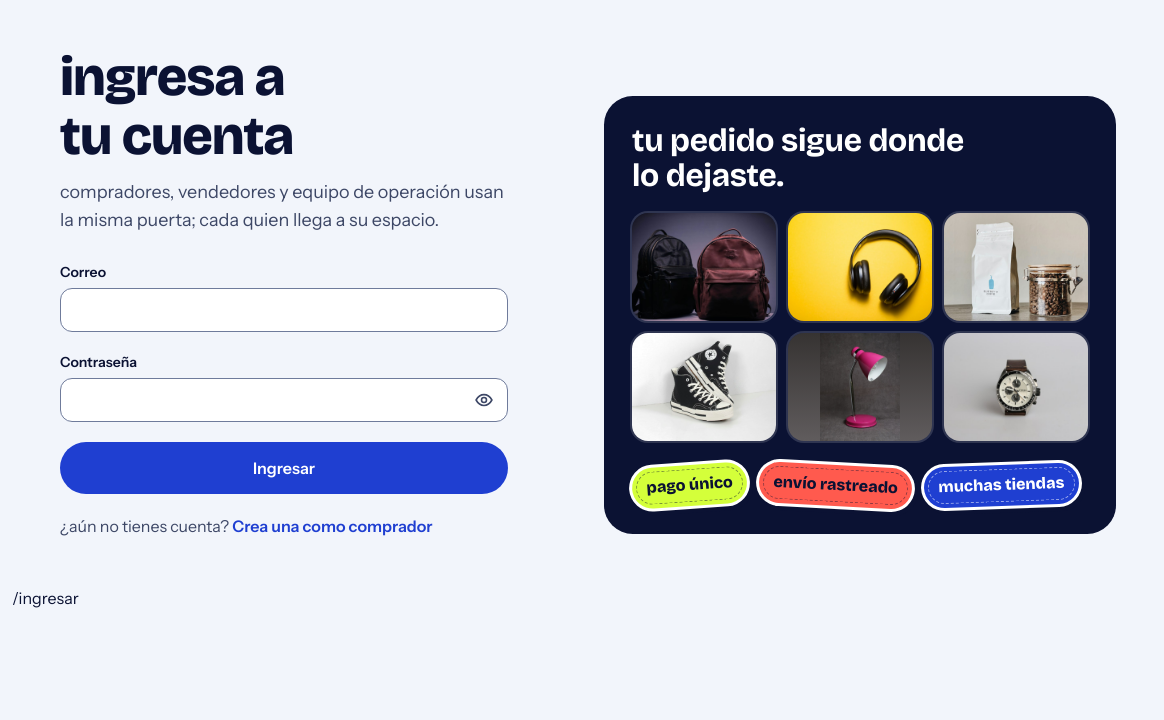
Test: login flow › shows a Spanish message when the credentials do not match
In the field labelled "Correo": (284, 310) [60,288,508,332], type "ana@nexusmarket.test"
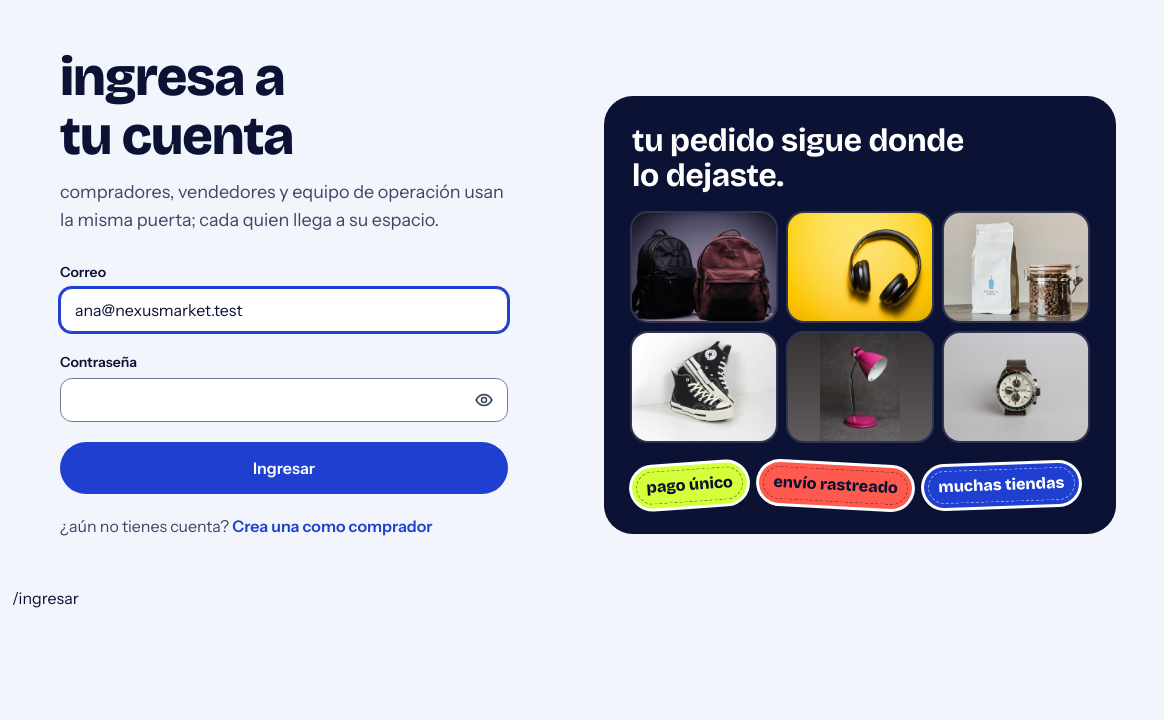
In the password field labelled "Contraseña": (284, 400) [60,378,508,422], type "equivocada"
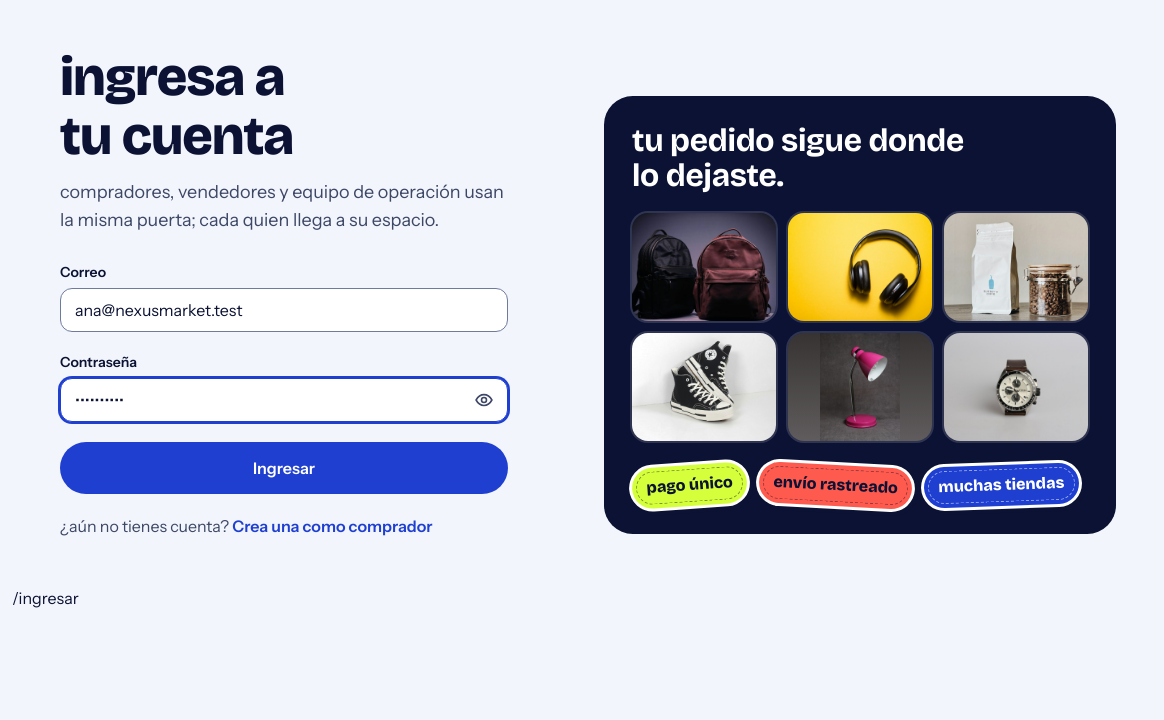
Click the button "Ingresar": (284, 468) [60,442,508,494]
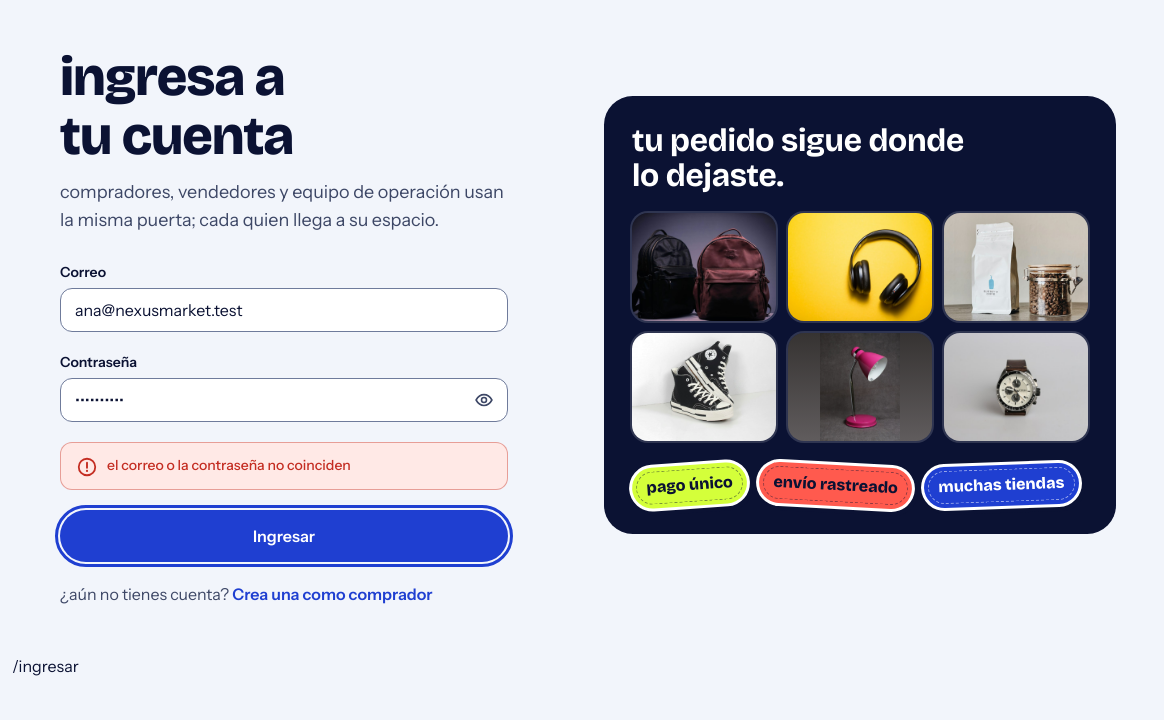
Now the message reads "el correo o la contraseña no coinciden", box [107,456,351,474]
